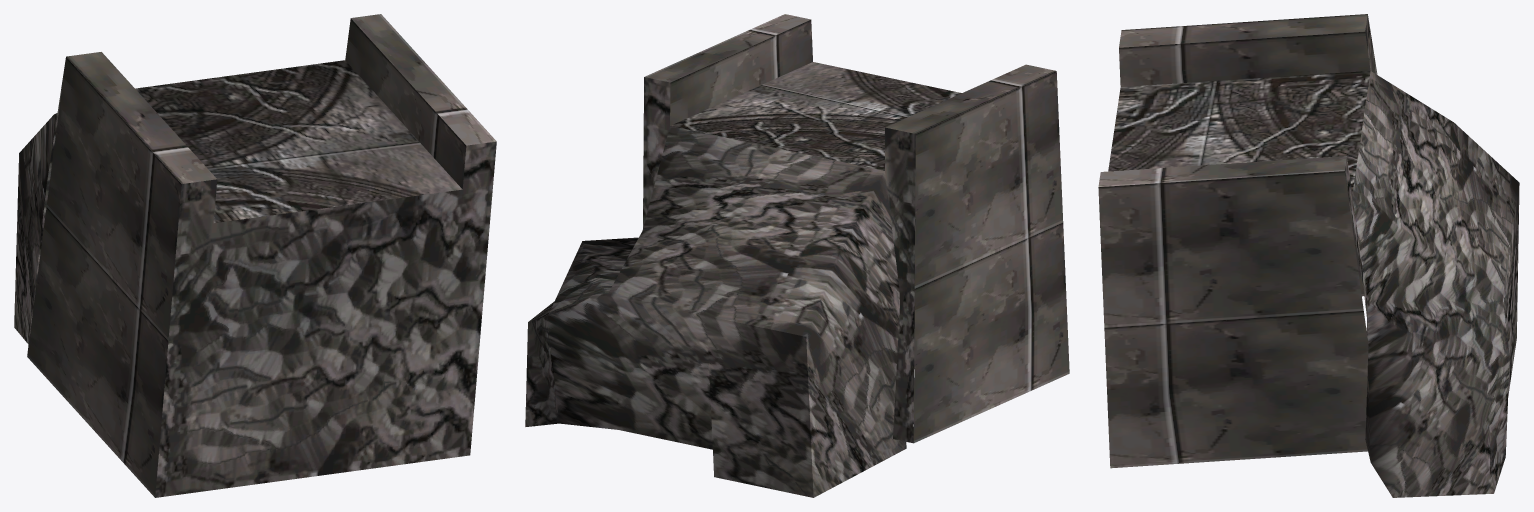
Rendered from INST_SM_DEBRIS_BLOCK_SMALLF.obj.
3 renders of one model, left to right at view 1: azimuth 30°, elevation 25°; view 2: azimuth 150°, elevation 25°; view 3: azimuth 270°, elevation 25°, orthographic. The views are drawn at different scales.
Parts seen in each view (by area): view 1: Object226, Object02, Object231, Object01; view 2: Object231, Object226, Object01; view 3: Object226, Object231, Object01.
Part boxes in pixels (x1,y1,x2,y2): Object226: (27, 14, 496, 497); Object02: (155, 141, 496, 497); Object231: (14, 113, 57, 344); Object01: (27, 60, 65, 351); Object231: (525, 126, 906, 497); Object226: (645, 14, 1069, 442); Object01: (643, 77, 915, 443); Object226: (1098, 14, 1370, 468); Object231: (1352, 71, 1519, 497); Object01: (1344, 14, 1377, 316).
Bounding box in the file's own units: 361 × 310 × 353.
